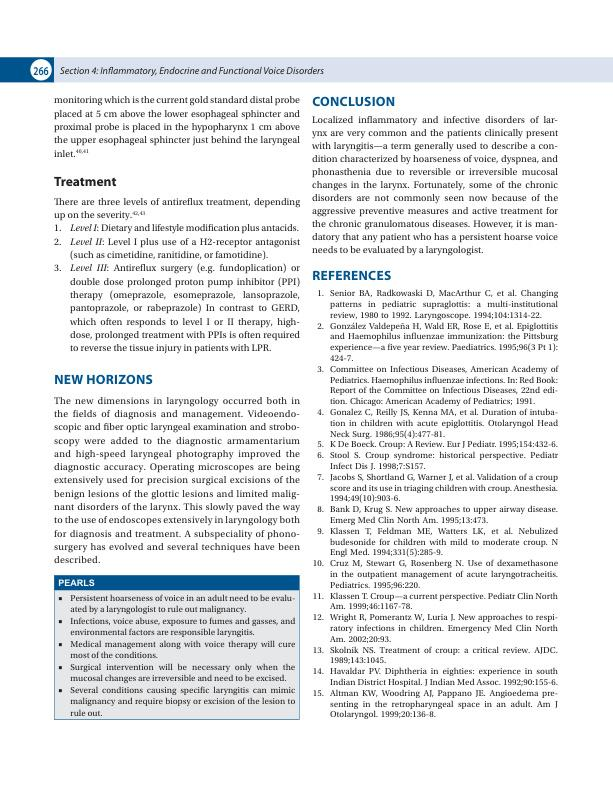header: (59, 65, 324, 77)
list: (313, 288, 559, 720), (53, 223, 300, 355), (57, 593, 296, 718)
section-heading: (54, 374, 153, 385), (311, 95, 396, 107), (311, 269, 392, 281), (57, 578, 95, 587)
sub-section-heading: (53, 176, 117, 188)
text: (53, 396, 301, 564), (312, 114, 558, 257), (54, 95, 300, 158), (53, 197, 301, 221)
